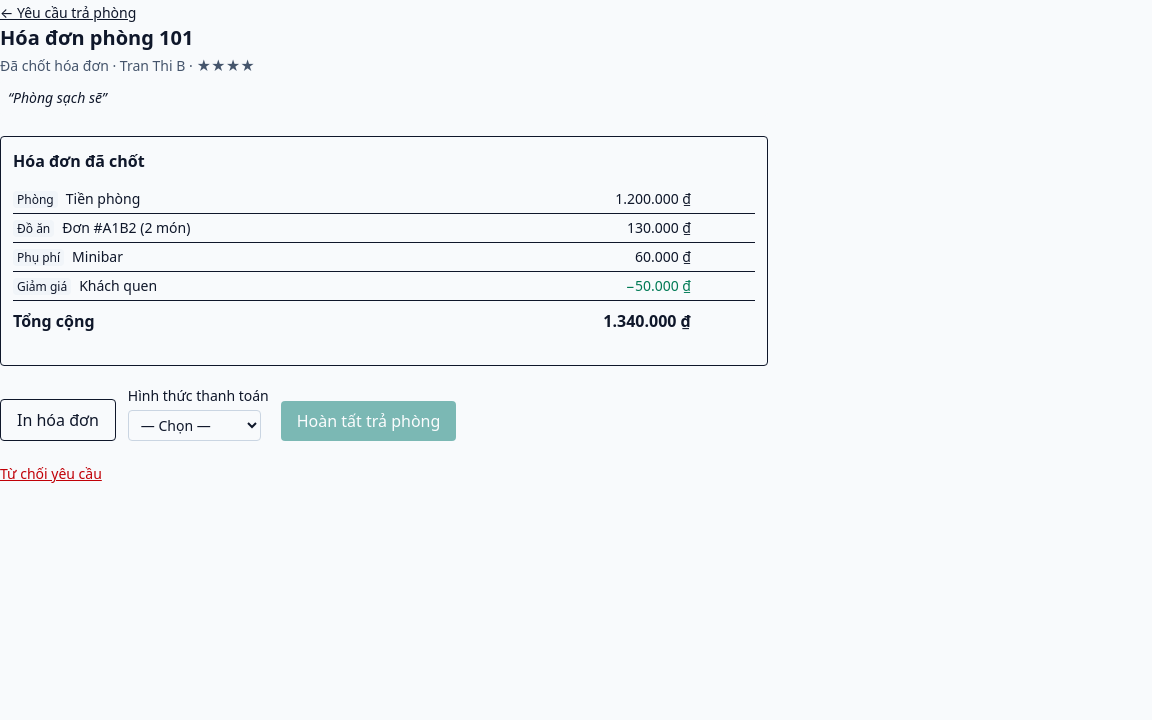
Test case: CheckoutDesk — verified bill › is read-only, prints, and completes after choosing payment and confirming
Expected: the heading "Hóa đơn đã chốt" is shown, [13, 150, 145, 172]
Click the button "In hóa đơn": (58,420) [0, 399, 116, 441]
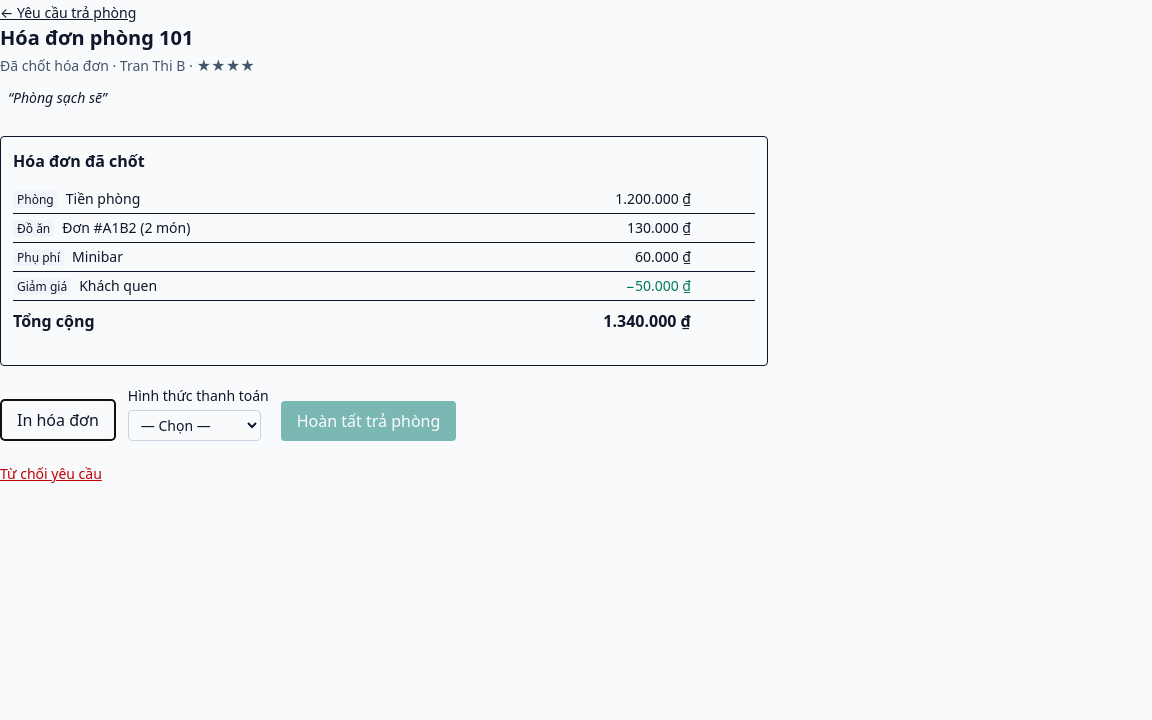
Expected: the button "Hoàn tất trả phòng" is disabled, [281, 401, 456, 441]
Select "Tiền mặt" in the dropdown labelled "Hình thức thanh toán": (194,426) [128, 410, 261, 441]
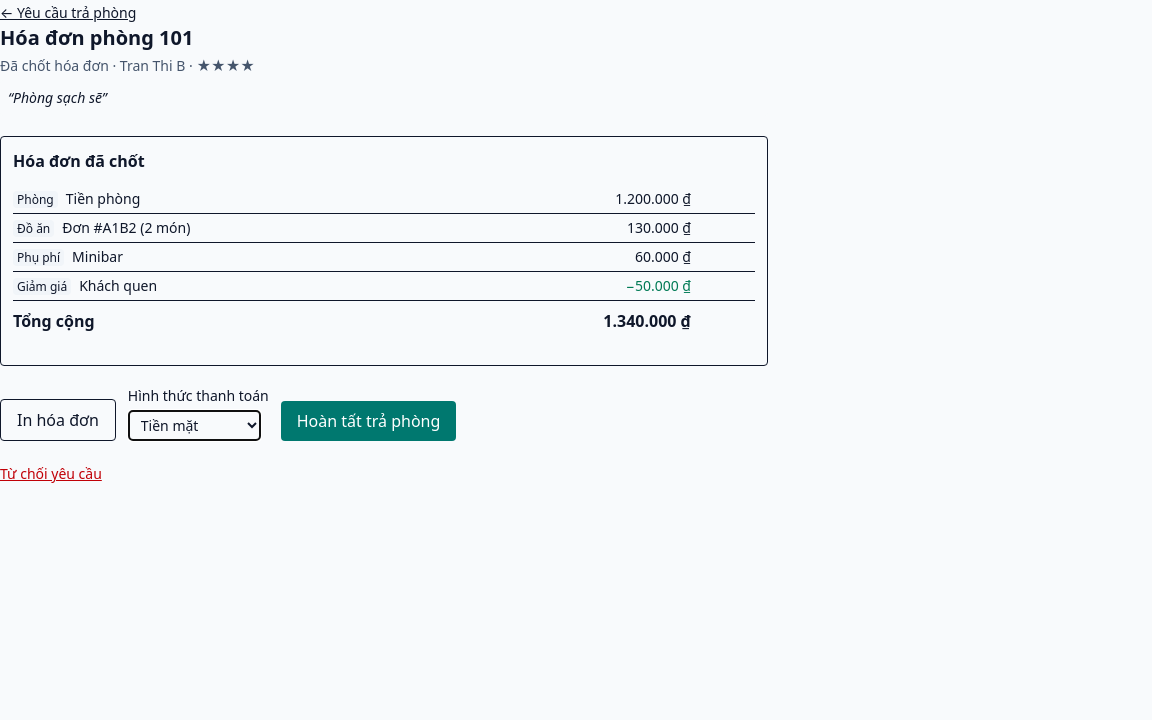
Click the button "Hoàn tất trả phòng": (369,421) [281, 401, 456, 441]
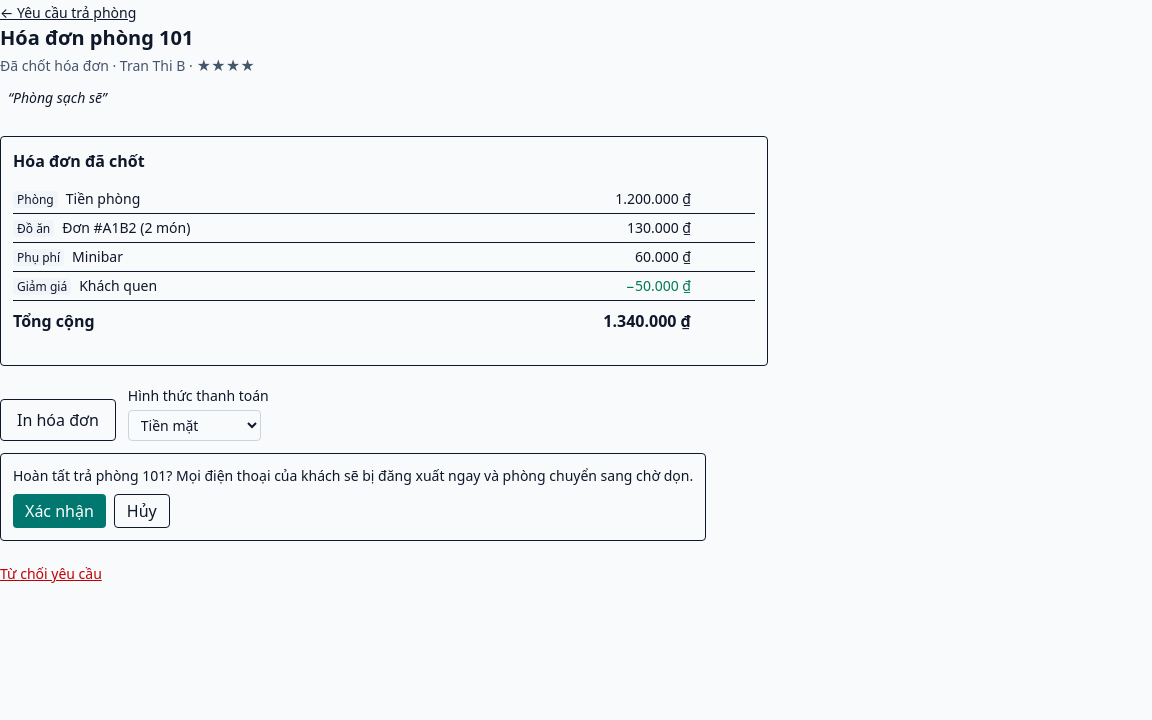
Now the dialog shows "sẽ bị đăng xuất ngay", box [13, 466, 693, 485]
Click the button "Xác nhận": (59,511) [13, 494, 106, 528]
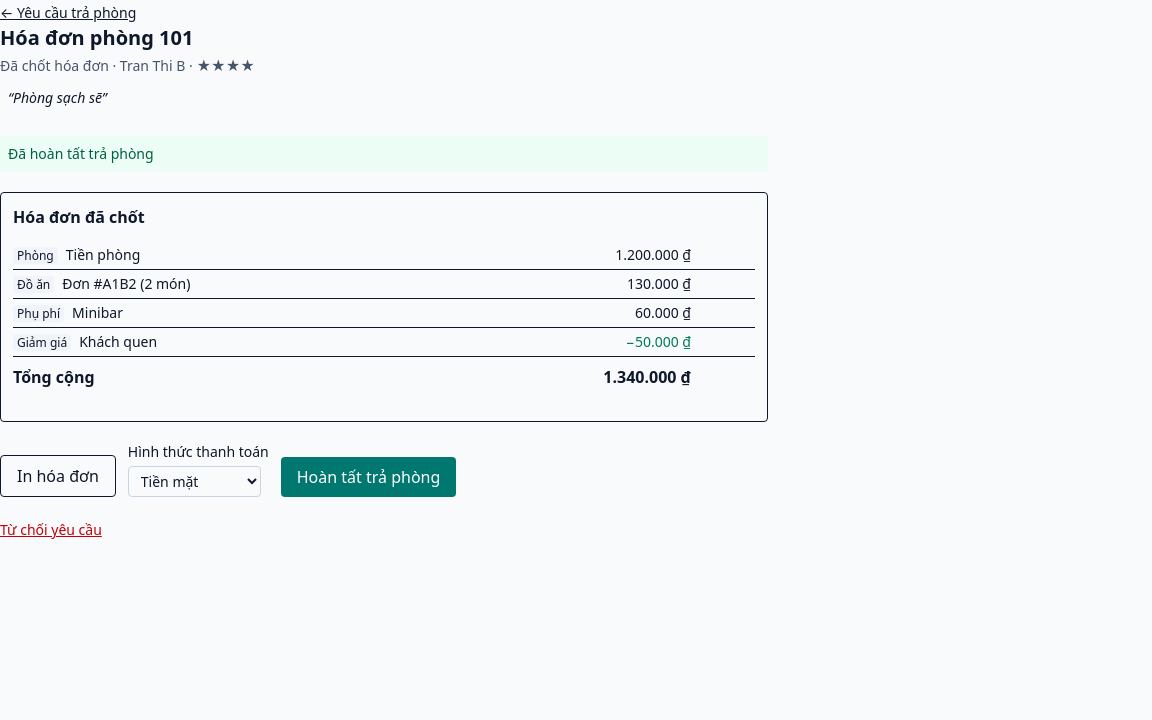
Now the message reads "Đã hoàn tất trả phòng", box [8, 144, 154, 163]
